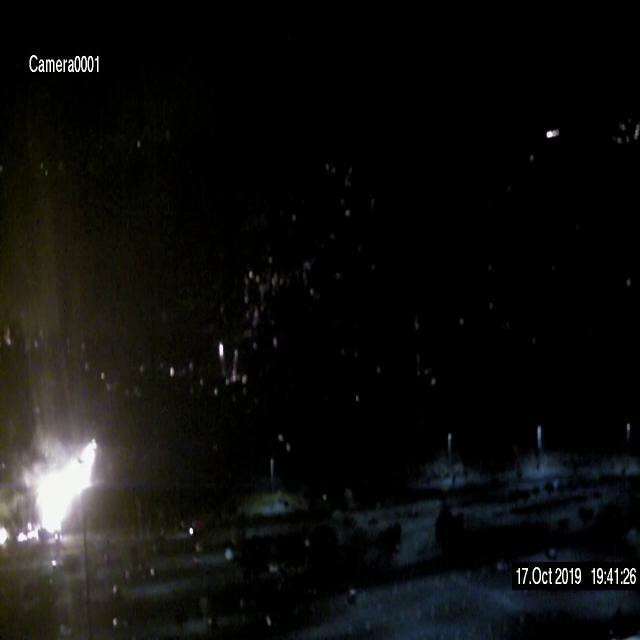Fire: (24, 438, 98, 535)
